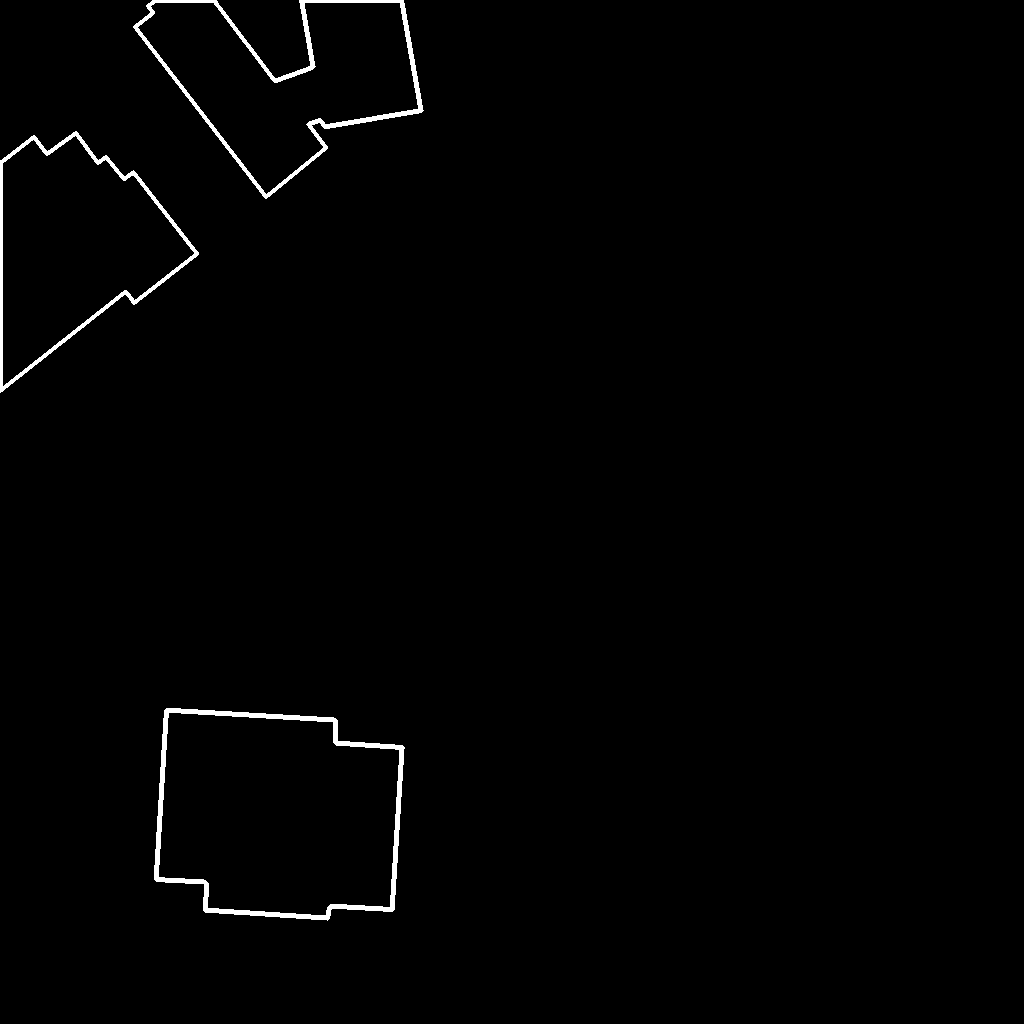building: (135, 0, 422, 198), (156, 710, 403, 919), (0, 133, 198, 392)
